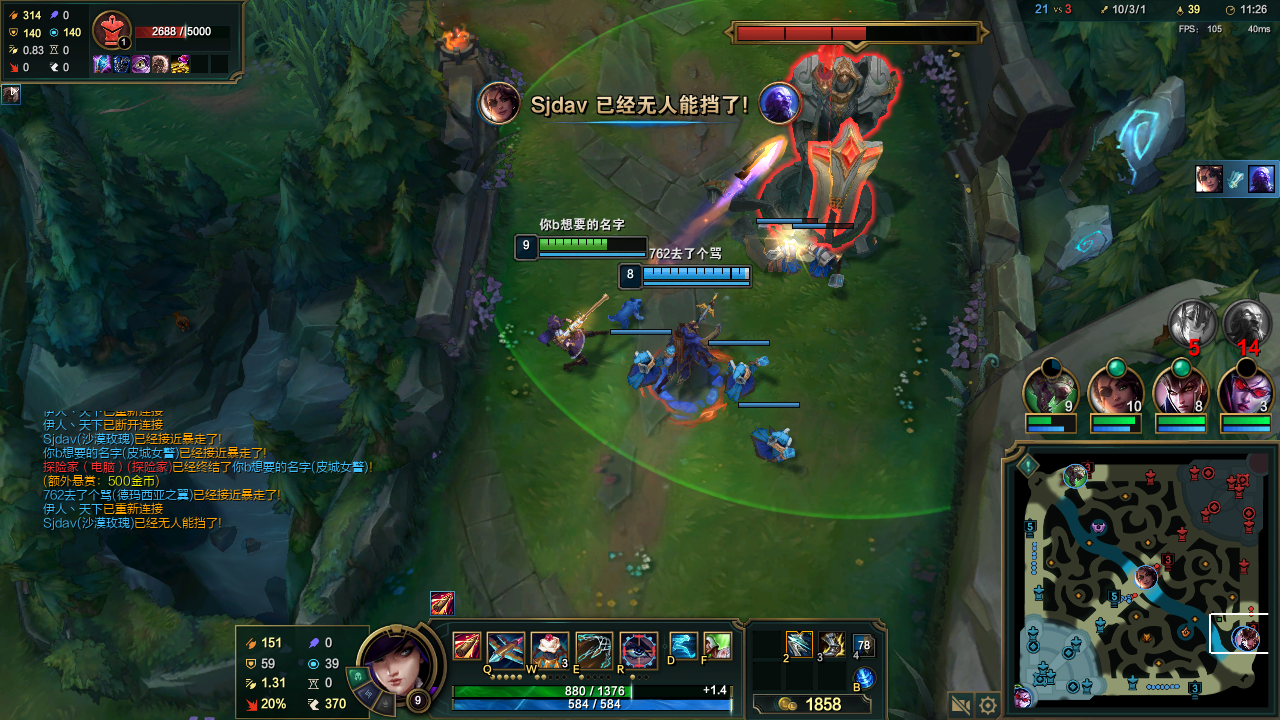DFFYT: (735, 26, 900, 244)
WFXB: (752, 420, 793, 458), (628, 348, 667, 384), (732, 357, 765, 397), (810, 247, 834, 278), (780, 241, 802, 269)
